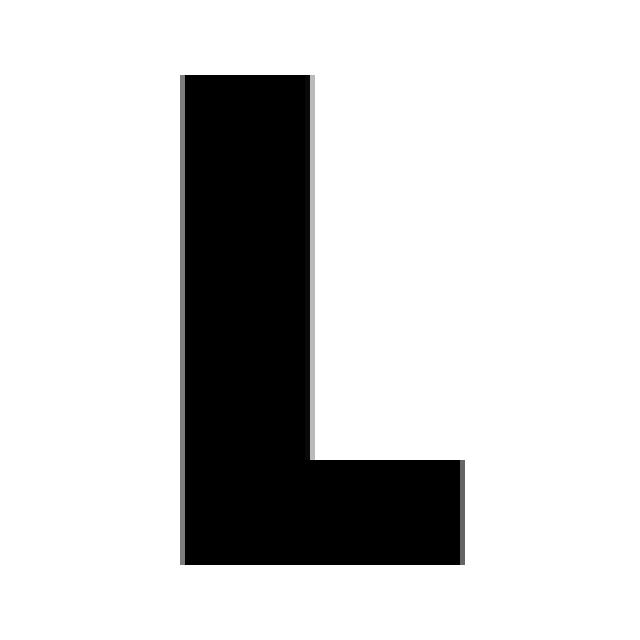L: (175, 65, 465, 565)
